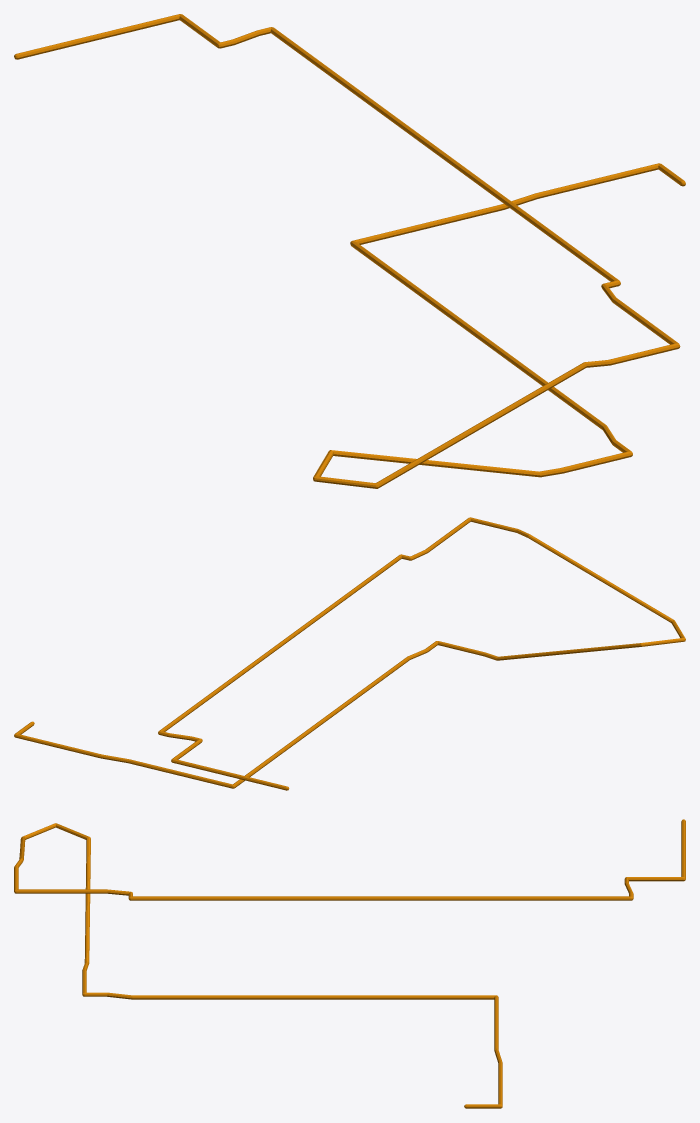
The picture shows the model from 3 angles, top to bottom: view 1: azimuth 30°, elevation 25°; view 2: azimuth 150°, elevation 25°; view 3: azimuth 270°, elevation 25°; orthographic projection. The views are drawn at different scales.
Size of the model in its own units: 2409 by 520 by 2954.
